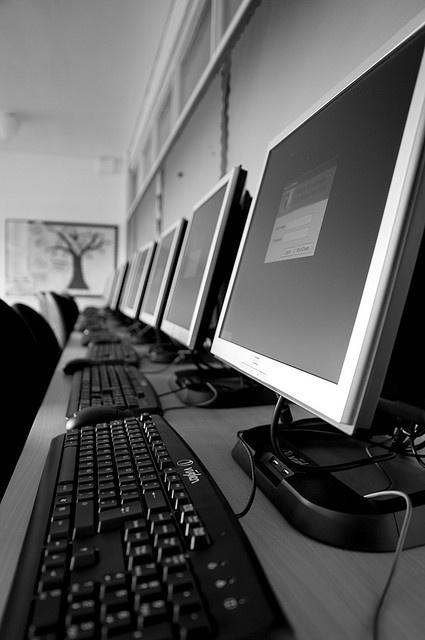AIO PC-Monitor-TV: (205, 19, 424, 438), (157, 164, 249, 352)
